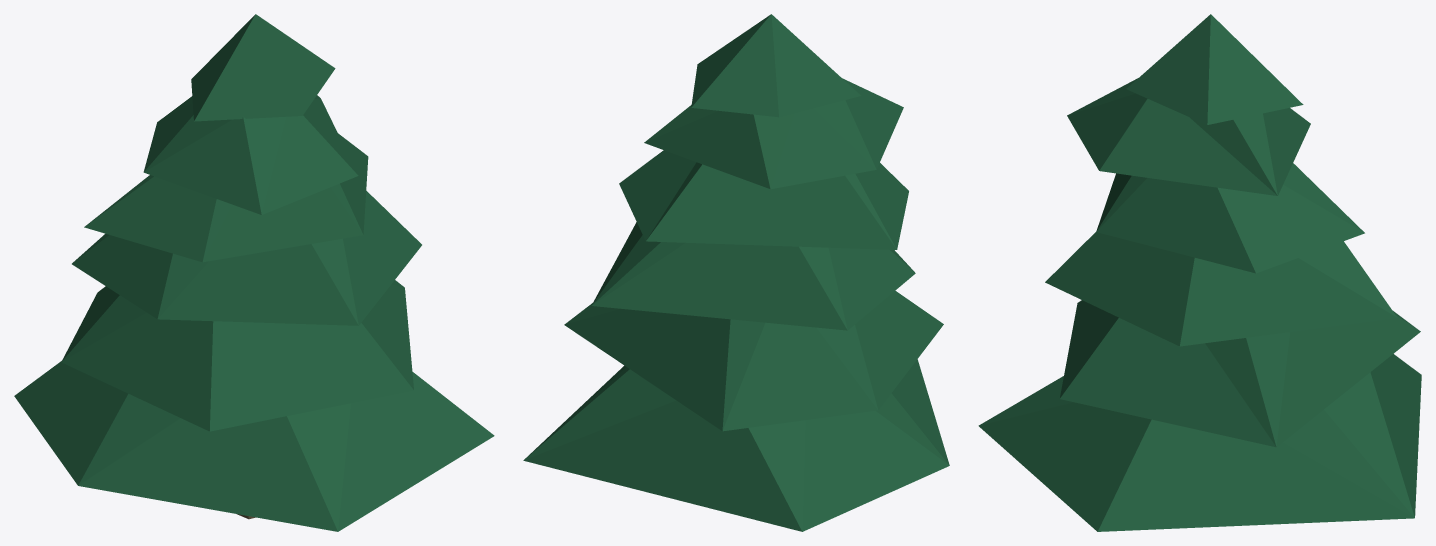
File: tree.dae
The picture shows the model from 3 angles, left to right: view 1: azimuth 30°, elevation 25°; view 2: azimuth 150°, elevation 25°; view 3: azimuth 270°, elevation 25°; orthographic projection. The views are drawn at different scales.
Parts seen in each view (by area): view 1: group_5, group_2, group_1, group_3, group_4, group_0; view 2: group_5, group_2, group_1, group_4, group_3, group_0; view 3: group_5, group_2, group_1, group_4, group_3, group_0.
Part boxes in pixels (bbox=[...]): group_5: bbox=[14, 361, 494, 531]; group_2: bbox=[61, 280, 413, 431]; group_1: bbox=[72, 191, 421, 325]; group_3: bbox=[143, 95, 358, 214]; group_4: bbox=[84, 133, 368, 262]; group_0: bbox=[191, 14, 335, 121]; group_5: bbox=[523, 359, 949, 531]; group_2: bbox=[564, 290, 943, 431]; group_1: bbox=[591, 222, 915, 330]; group_4: bbox=[619, 150, 908, 249]; group_3: bbox=[644, 78, 903, 189]; group_0: bbox=[691, 14, 860, 117]; group_5: bbox=[978, 354, 1421, 531]; group_2: bbox=[1059, 300, 1420, 447]; group_1: bbox=[1045, 232, 1397, 346]; group_4: bbox=[1096, 163, 1364, 273]; group_3: bbox=[1067, 78, 1310, 195]; group_0: bbox=[1126, 14, 1303, 124].
Bounding box in the file's own units: 130 × 136 × 166.
